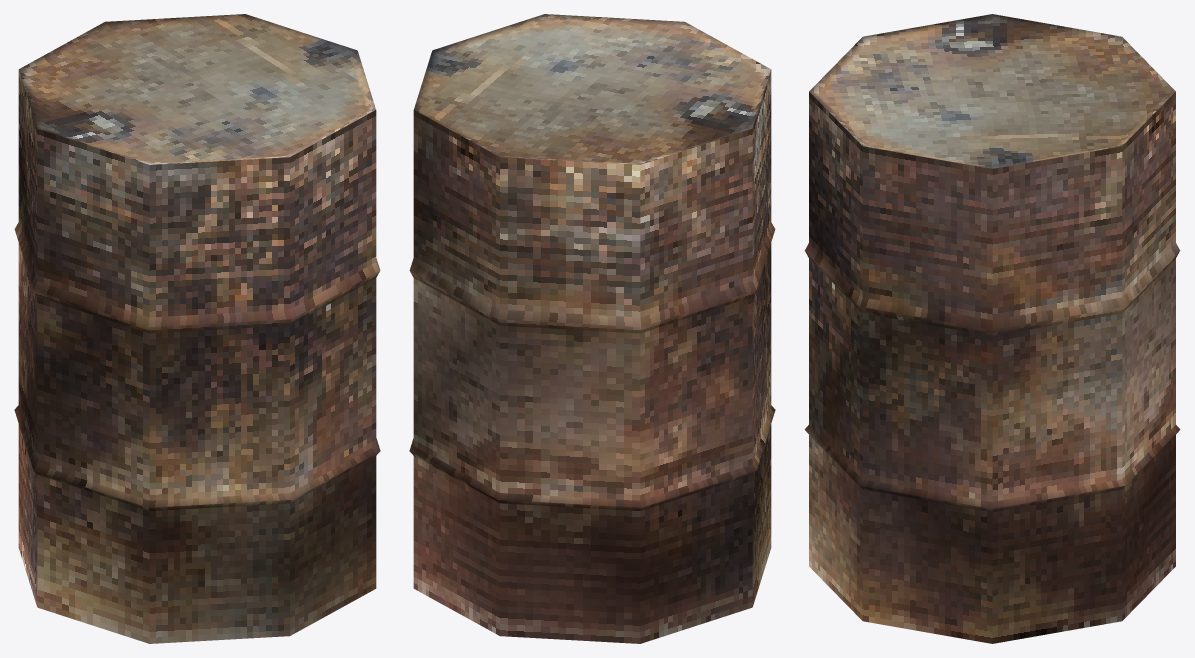
File: barrel_oil.glb
3 views of the same model, side by side, from view 1: azimuth 30°, elevation 25°; view 2: azimuth 150°, elevation 25°; view 3: azimuth 270°, elevation 25° (orthographic).
Parts seen in each view (by area): view 1: BarrelOil; view 2: BarrelOil; view 3: BarrelOil.
Part boxes in pixels (x1,y1,x2,y2): BarrelOil: [14, 14, 380, 643]; BarrelOil: [409, 14, 775, 643]; BarrelOil: [804, 14, 1180, 643].
Size of the model in its own units: 0.7175 by 1 by 0.7175.
1 material, 1 textured.
